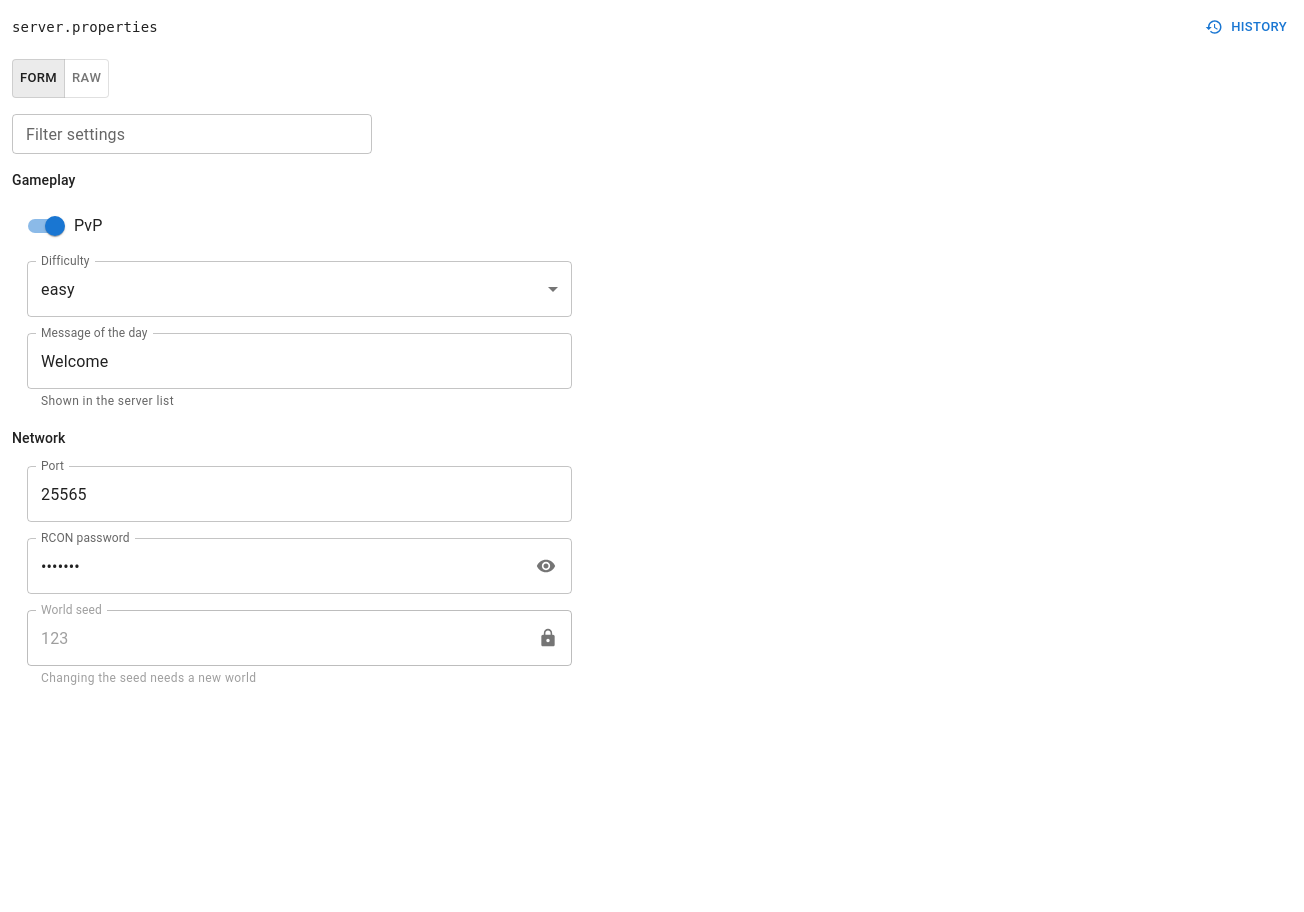
Test case: RawSync › form edits then Raw shows previewConfig's text
Click the switch labelled "PvP": (65, 226) [28,216,102,236]
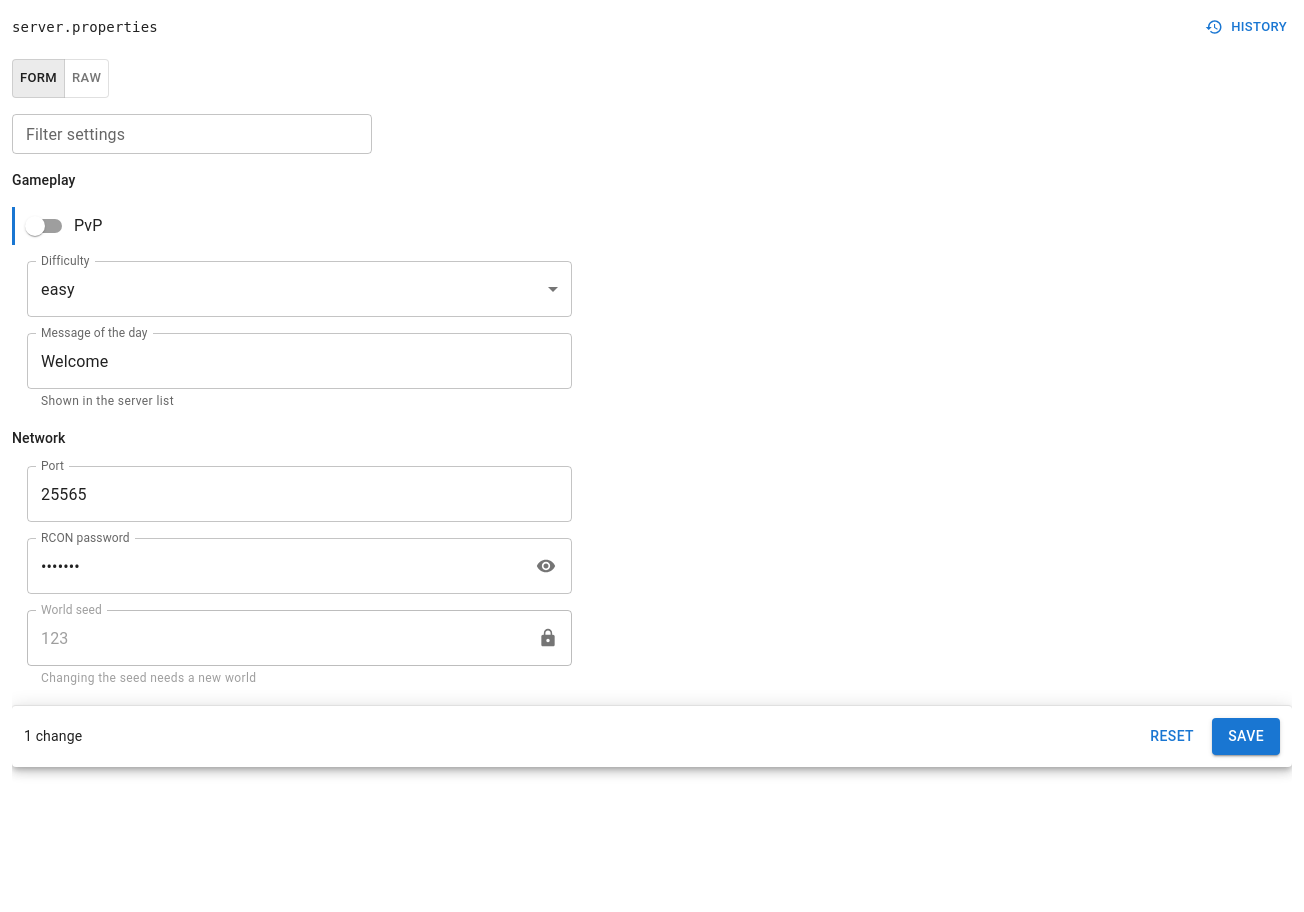
Click the button "Raw": (87, 78) [64,59,109,98]
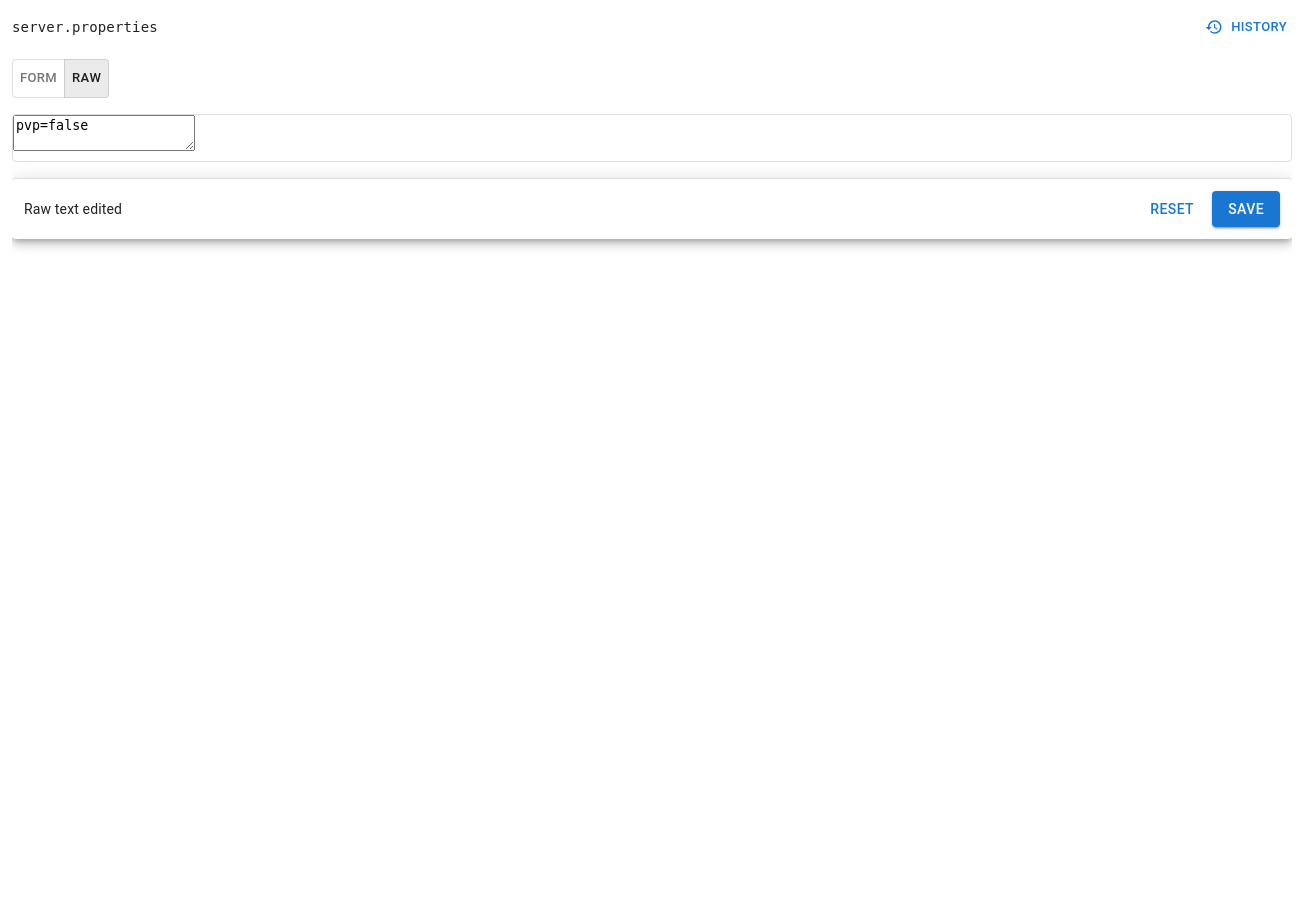
Now the text "Raw text edited" is shown, box [24,201,122,217]
